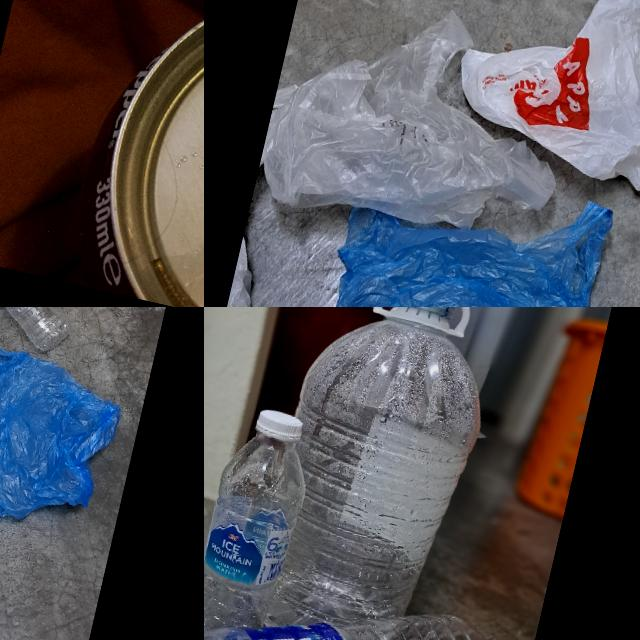garrafa plástica: (252, 307, 499, 640), (204, 554, 508, 640), (204, 431, 315, 640), (0, 307, 84, 355)
lata: (78, 0, 204, 307)
sacola plástica: (250, 0, 592, 270), (298, 148, 625, 307), (438, 0, 640, 215), (0, 316, 133, 545)
tampa plástica: (252, 406, 306, 446), (394, 307, 465, 320)
